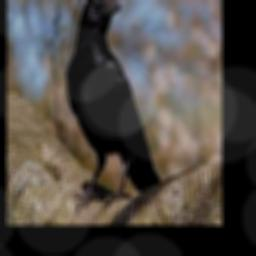Crow: (66, 0, 161, 210)
